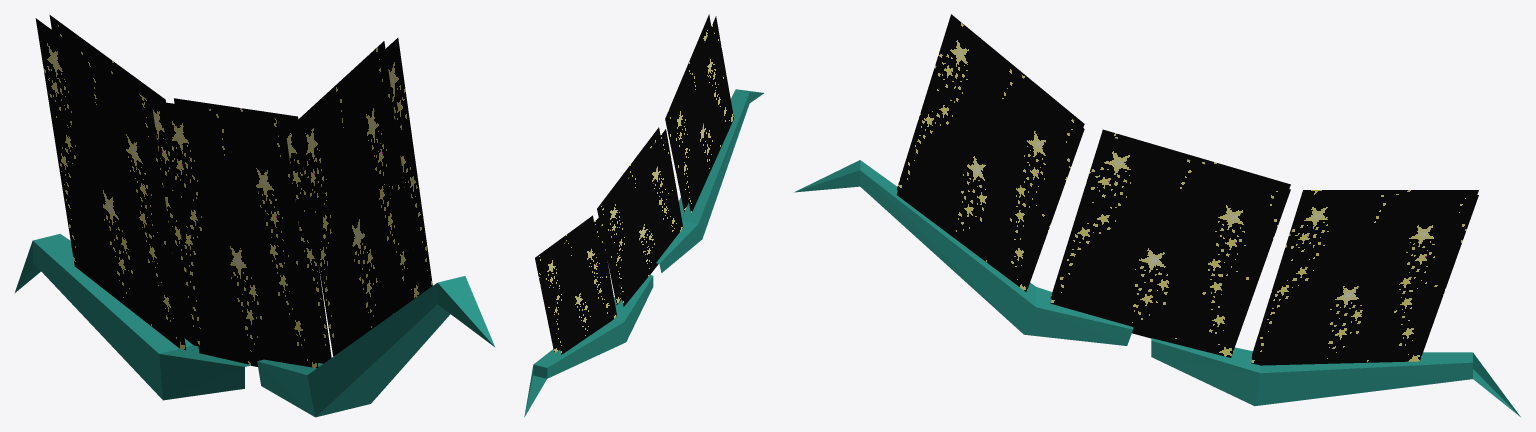
3 views of the same model, side by side, from view 1: azimuth 30°, elevation 25°; view 2: azimuth 150°, elevation 25°; view 3: azimuth 270°, elevation 25° (orthographic). The views are drawn at different scales.
Bounding box in the file's own units: 8 × 73 × 120.
2 materials, 2 textured.
